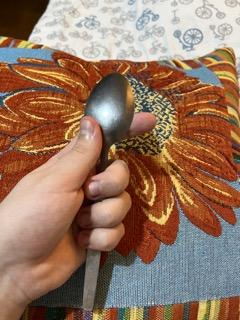spoon: (79, 71, 138, 313)
